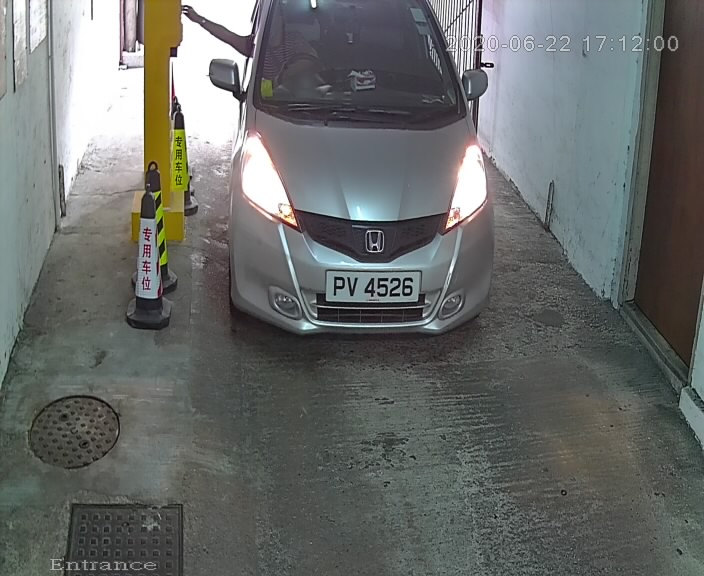privatecar: (195, 2, 514, 373)
